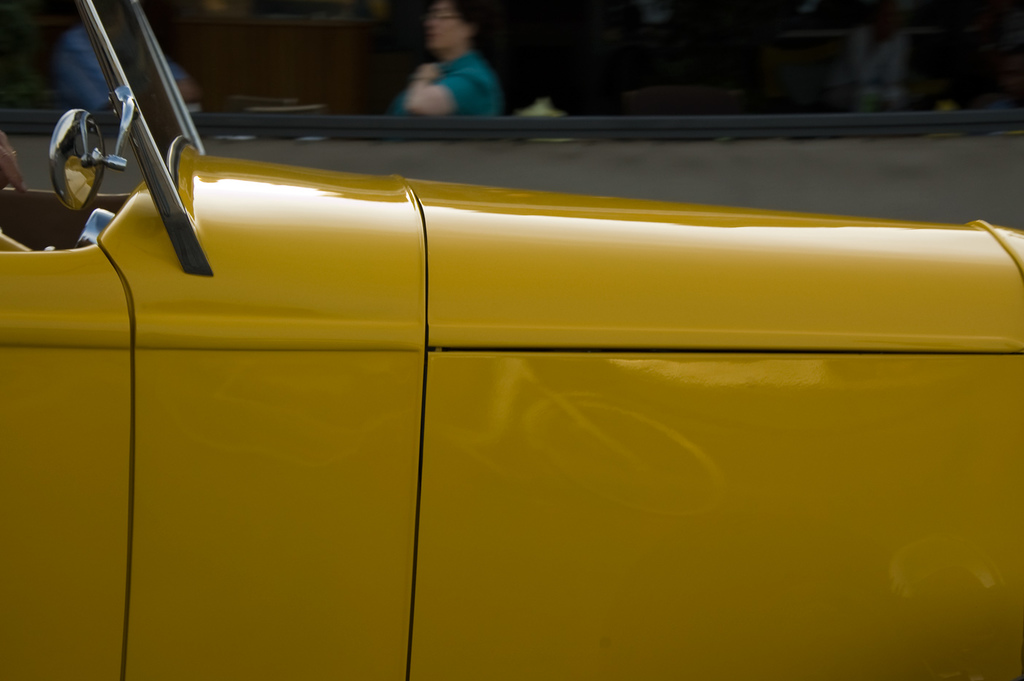Car: (0, 62, 1022, 664)
